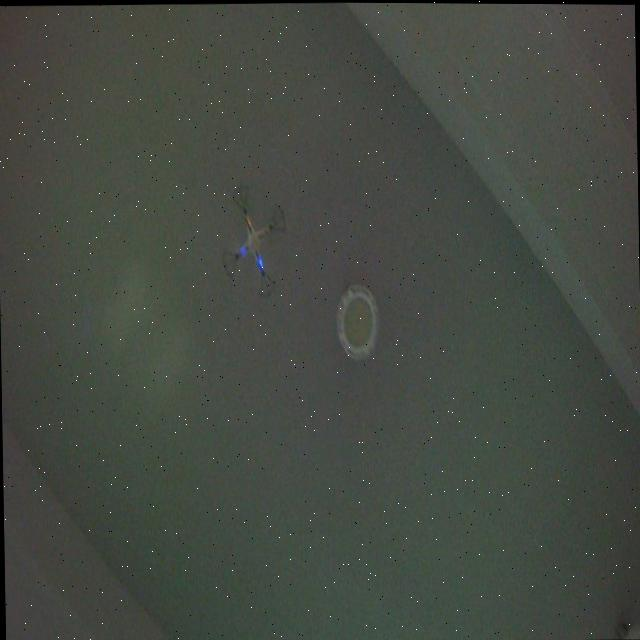drone: (218, 181, 288, 302)
